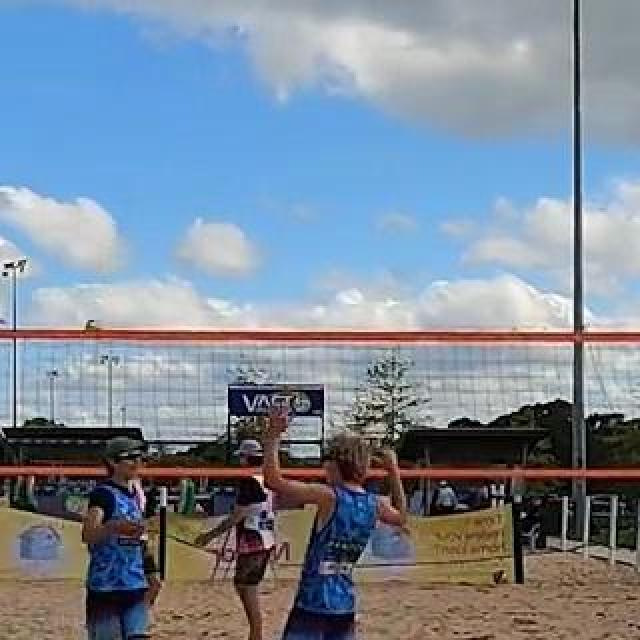volleyball: (493, 568, 509, 586)
